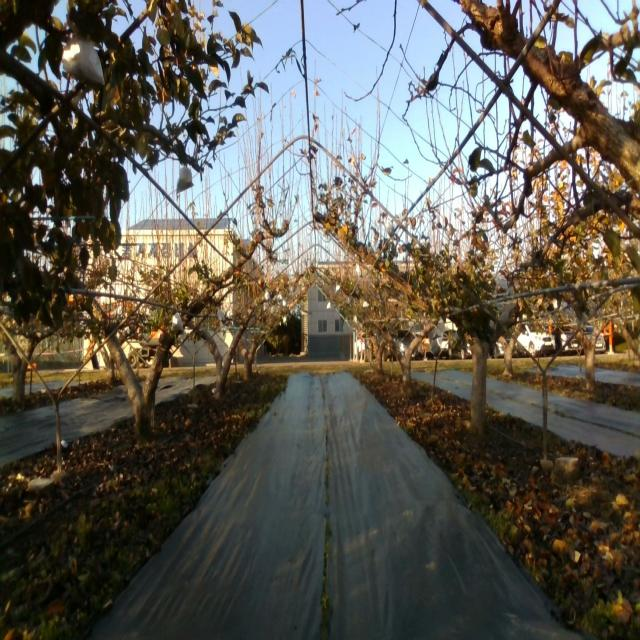pearbags: (61, 34, 106, 88), (176, 167, 194, 194), (172, 313, 183, 332)
